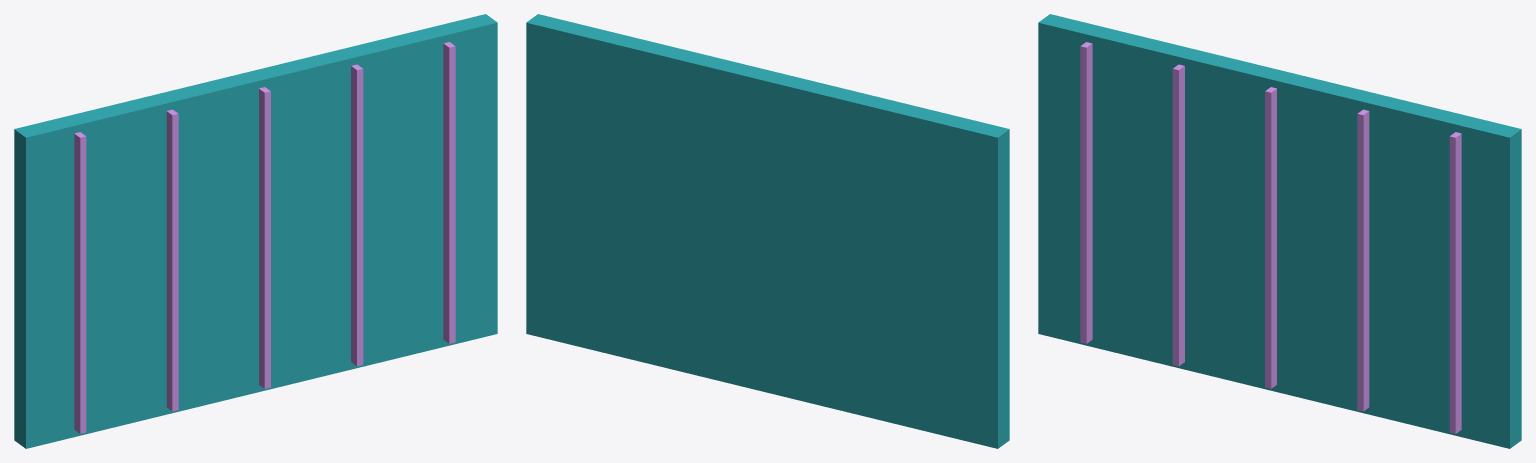
Rendered from roofing-shingle.glb.
3 renders of one model, left to right at view 1: azimuth 30°, elevation 25°; view 2: azimuth 150°, elevation 25°; view 3: azimuth 330°, elevation 25°, orthographic.
Parts seen in each view (by area): view 1: world; view 2: world; view 3: world.
Boxes of the visible parts, x1,y1,x2,y2 form: world: (14, 14, 497, 448); world: (526, 14, 1009, 448); world: (1038, 14, 1521, 448).
Bounding box in the file's own units: 2.3 × 1.45 × 0.15.
